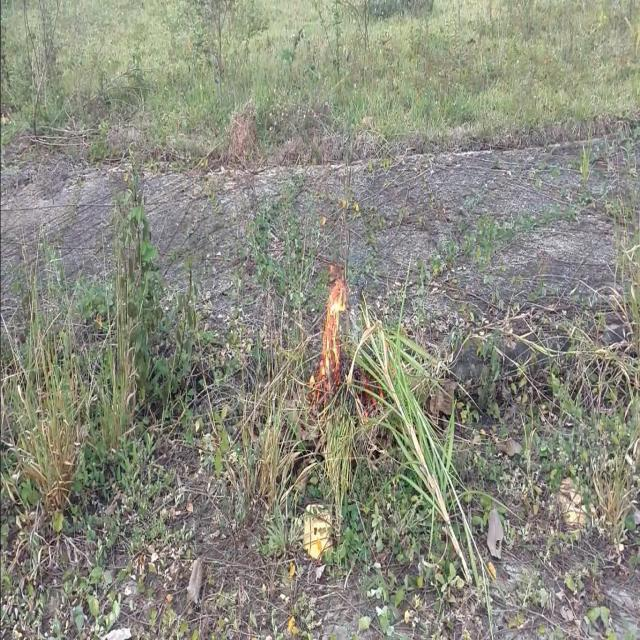fire: (306, 269, 347, 393)
